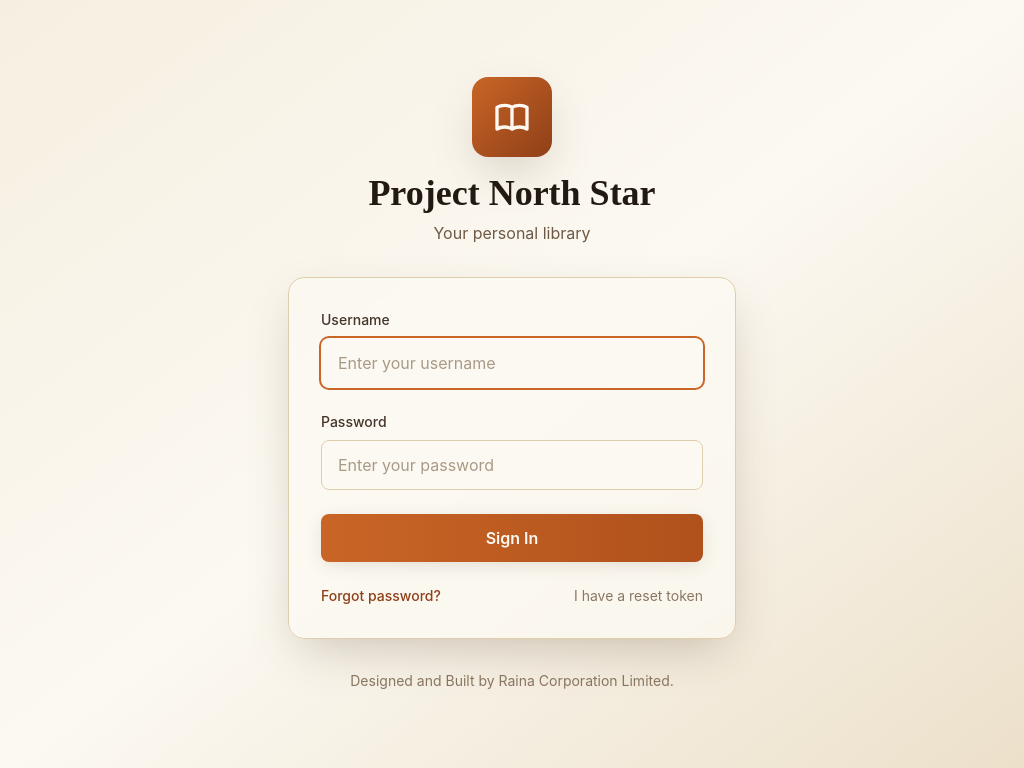
Test: Login password-reset flow › submits a new password with the reset token
expect the button "Sign In" is shown: met, box [321,514,703,562]
Click the button "I have a reset token": click(638, 596) [574,586,703,606]
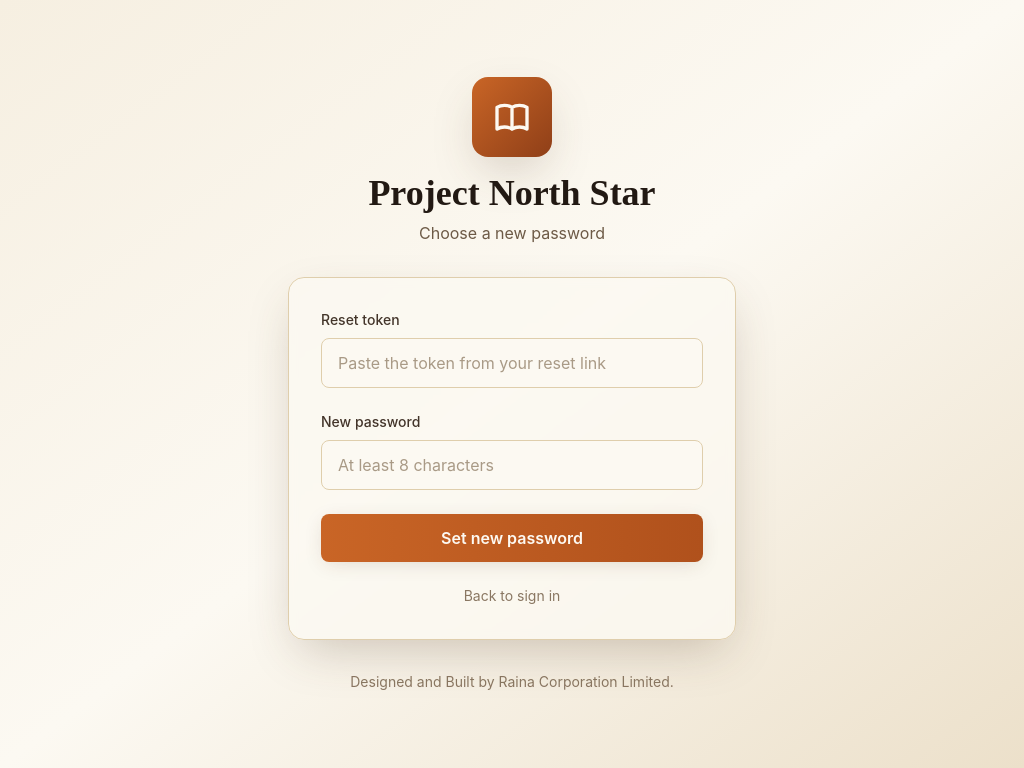
In the field labelled "Reset token": (512, 362) [321,338,703,388], type "tok-xyz"
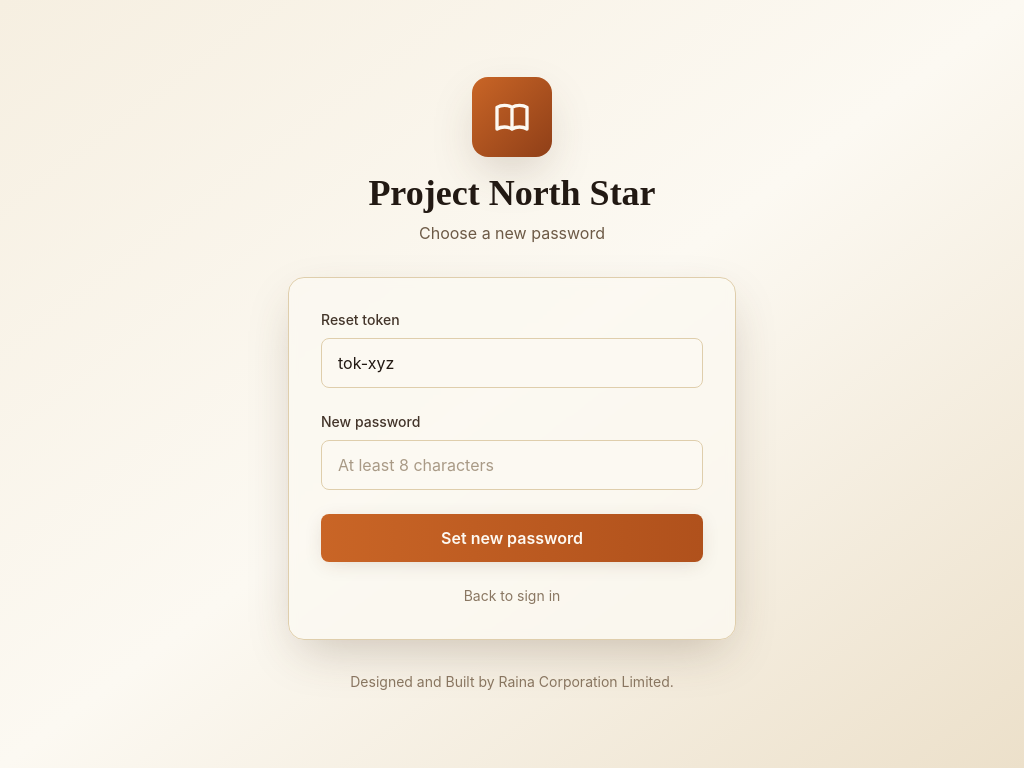
In the password field labelled "New password": (512, 464) [321,440,703,490], type "longenough"
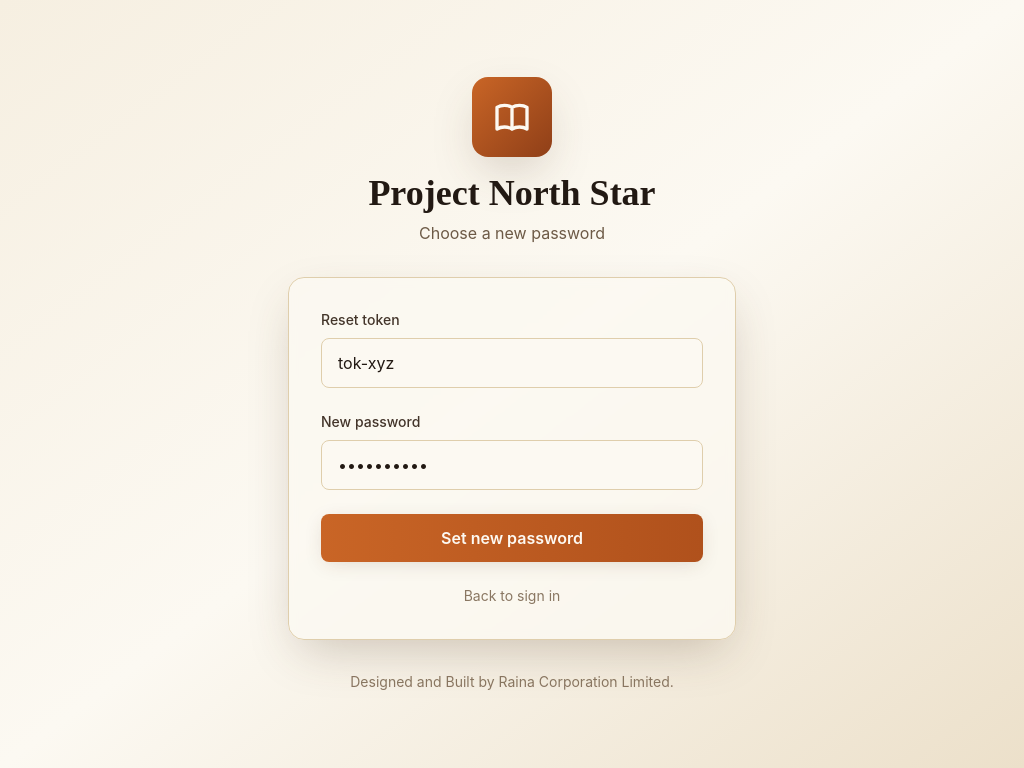
Click the button "Set new password": click(512, 538) [321,514,703,562]
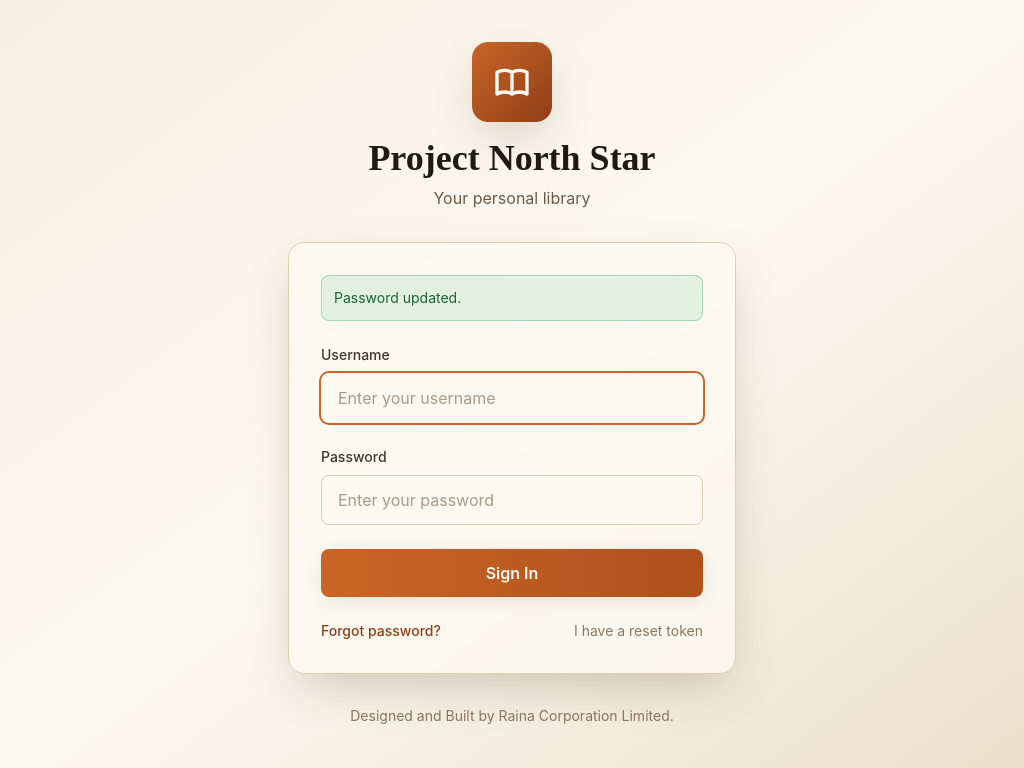
expect the button "Sign In" is shown: met, box [321,549,703,597]
expect the text "Password updated." is shown: met, box [321,275,703,321]
